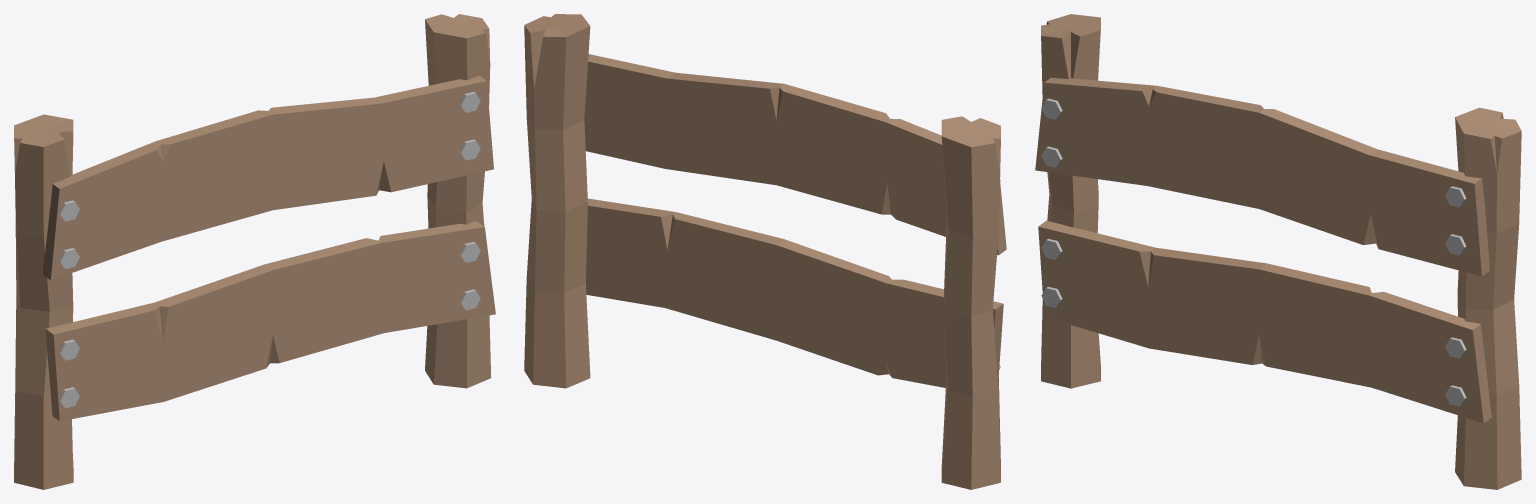
The model's file is fence.glb.
3 views of the same model, side by side, from view 1: azimuth 30°, elevation 25°; view 2: azimuth 150°, elevation 25°; view 3: azimuth 330°, elevation 25° (orthographic).
Visible parts, largest first — view 1: pCylinder3, pCylinder12; view 2: pCylinder3; view 3: pCylinder3, pCylinder12.
Boxes of the visible parts, x1,y1,x2,y2 form: pCylinder3: (14, 14, 495, 489); pCylinder12: (59, 92, 480, 408); pCylinder3: (524, 14, 1006, 489); pCylinder3: (1035, 14, 1521, 489); pCylinder12: (1041, 98, 1466, 406).
Size of the model in its own units: 0.159 by 0.1133 by 0.0232.
